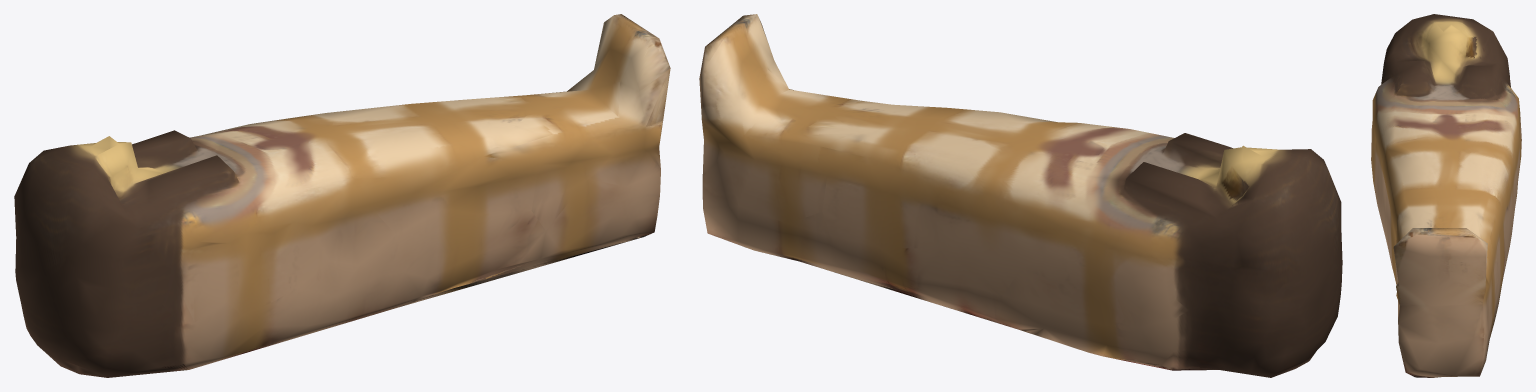
Rendered from Coffin_01.fbx.
3 views of the same model, side by side, from view 1: azimuth 30°, elevation 25°; view 2: azimuth 150°, elevation 25°; view 3: azimuth 270°, elevation 25° (orthographic). The views are drawn at different scales.
Parts seen in each view (by area): view 1: Coffin_01; view 2: Coffin_01; view 3: Coffin_01.
Boxes of the visible parts, bbox=[...] form: Coffin_01: bbox=[14, 14, 670, 377]; Coffin_01: bbox=[699, 14, 1342, 377]; Coffin_01: bbox=[1371, 14, 1521, 377].
Bounding box in the file's own units: 327 × 109 × 91.7.
Materials: 1 (1 with a texture image).
